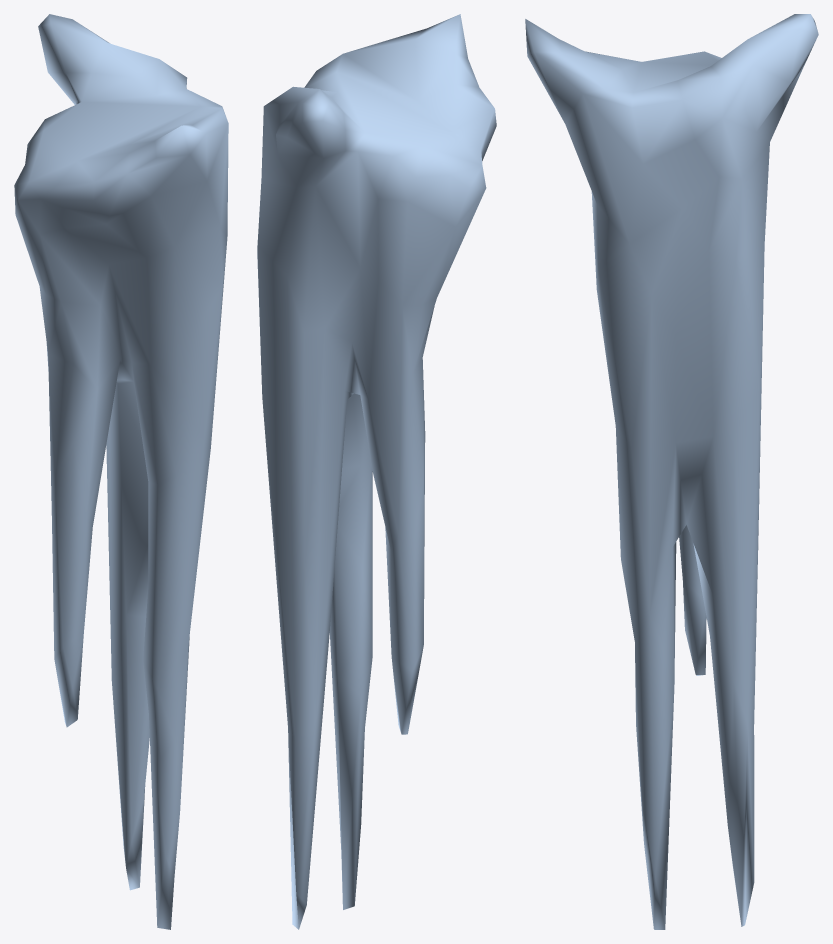
Rendered from IciclesSmall_Pipes_01.fbx.
3 renders of one model, left to right at view 1: azimuth 30°, elevation 25°; view 2: azimuth 150°, elevation 25°; view 3: azimuth 270°, elevation 25°, orthographic. The views are drawn at different scales.
Parts seen in each view (by area): view 1: IciclesSmall_Pipes_01.001; view 2: IciclesSmall_Pipes_01.001; view 3: IciclesSmall_Pipes_01.001.
Part boxes in pixels (bbox=[...]): IciclesSmall_Pipes_01.001: bbox=[14, 14, 228, 929]; IciclesSmall_Pipes_01.001: bbox=[257, 14, 496, 929]; IciclesSmall_Pipes_01.001: bbox=[525, 14, 818, 929].
Size of the model in its own units: 0.1337 by 0.5641 by 0.1678.
